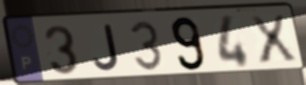3: (126, 19, 165, 73), (42, 23, 80, 77)
4: (216, 13, 252, 70)
9: (169, 15, 208, 72)
J: (91, 22, 121, 72)
X: (246, 12, 300, 66)
